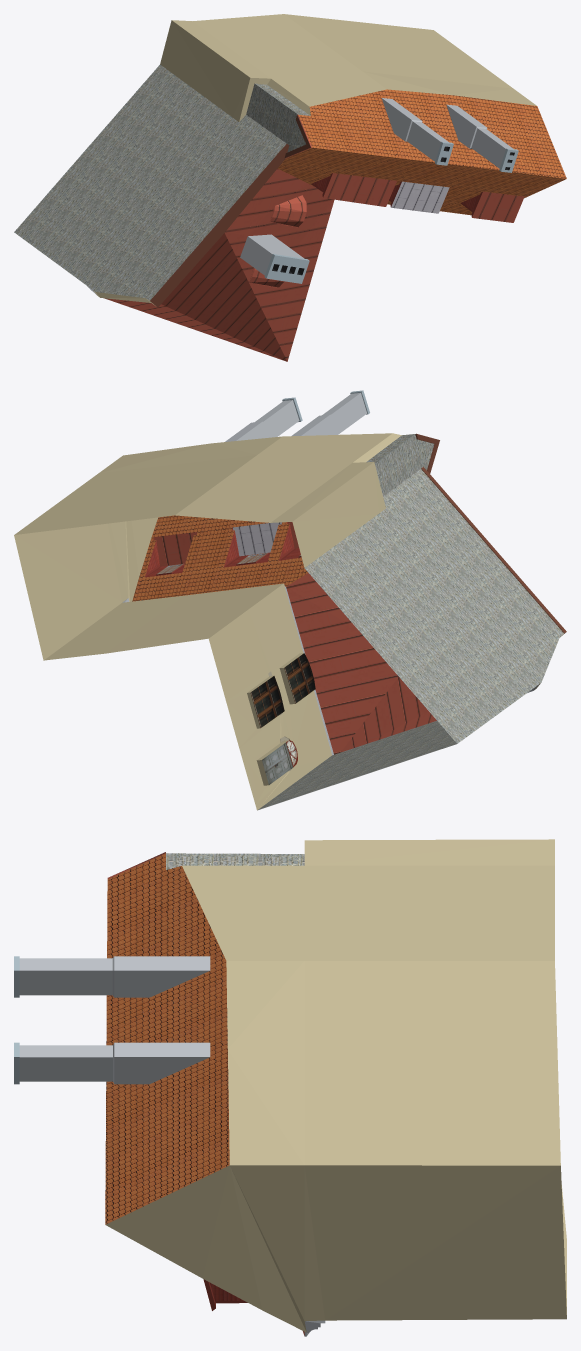
Rendered from Ryytli_24_1.obj.
The picture shows the model from 3 angles, top to bottom: view 1: azimuth 30°, elevation 25°; view 2: azimuth 150°, elevation 25°; view 3: azimuth 270°, elevation 25°; orthographic projection. The views are drawn at different scales.
Parts seen in each view (by area): view 1: Ryytli_24_1; view 2: Ryytli_24_1; view 3: Ryytli_24_1.
Boxes of the visible parts, bbox=[...] form: Ryytli_24_1: bbox=[14, 14, 566, 361]; Ryytli_24_1: bbox=[14, 390, 566, 810]; Ryytli_24_1: bbox=[14, 839, 566, 1336].
Size of the model in its own units: 20.85 by 13.87 by 14.86.
